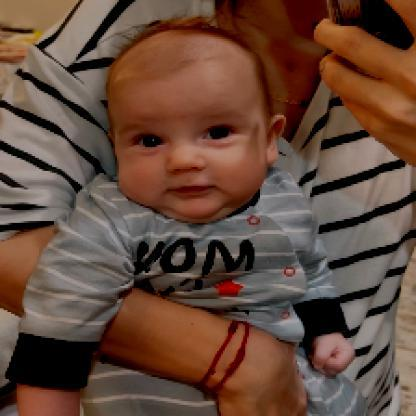child: (5, 18, 360, 416)
